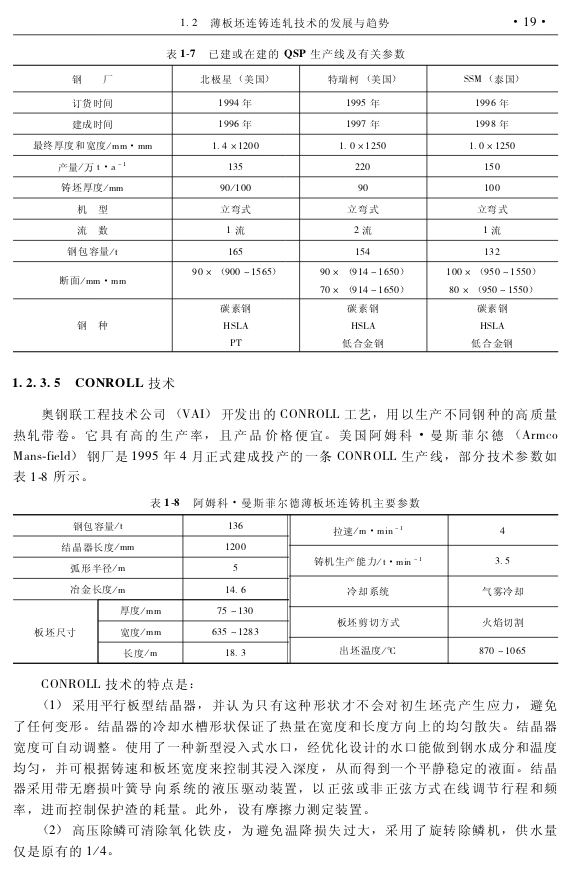table: (13, 64, 558, 352), (13, 514, 559, 664)
